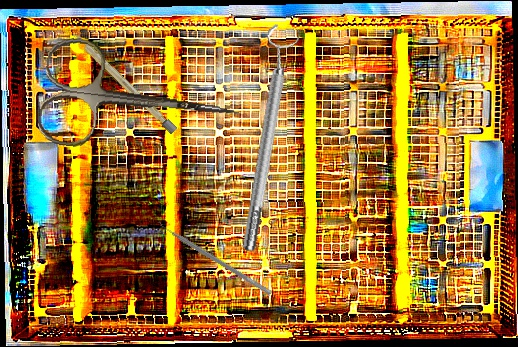Fixation Ring: (228, 22, 305, 254)
Iris Scissors: (35, 34, 247, 169)
Scalpel Handle: (70, 30, 178, 135)
Spatula Surgical: (154, 217, 276, 296)
